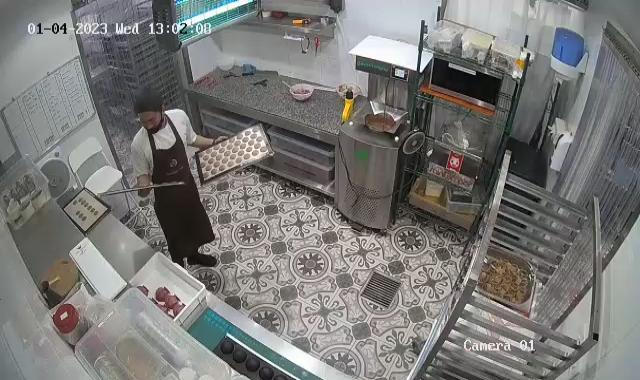no_hairnet: (132, 88, 168, 118)
